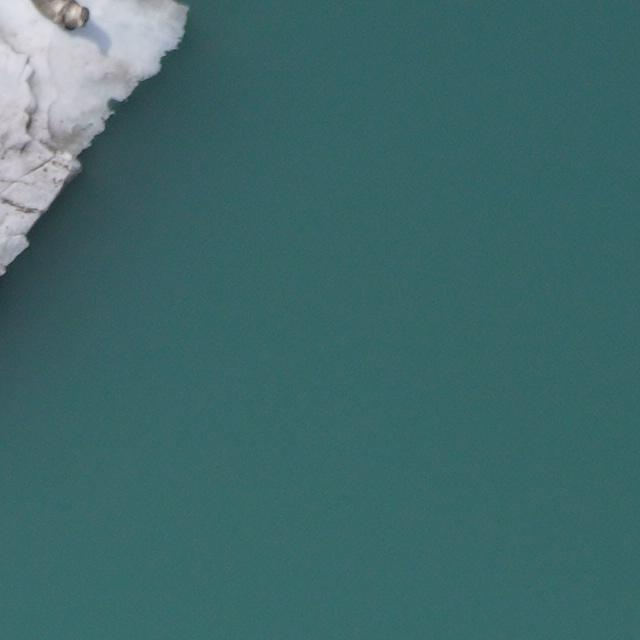seal: (31, 1, 87, 29)
